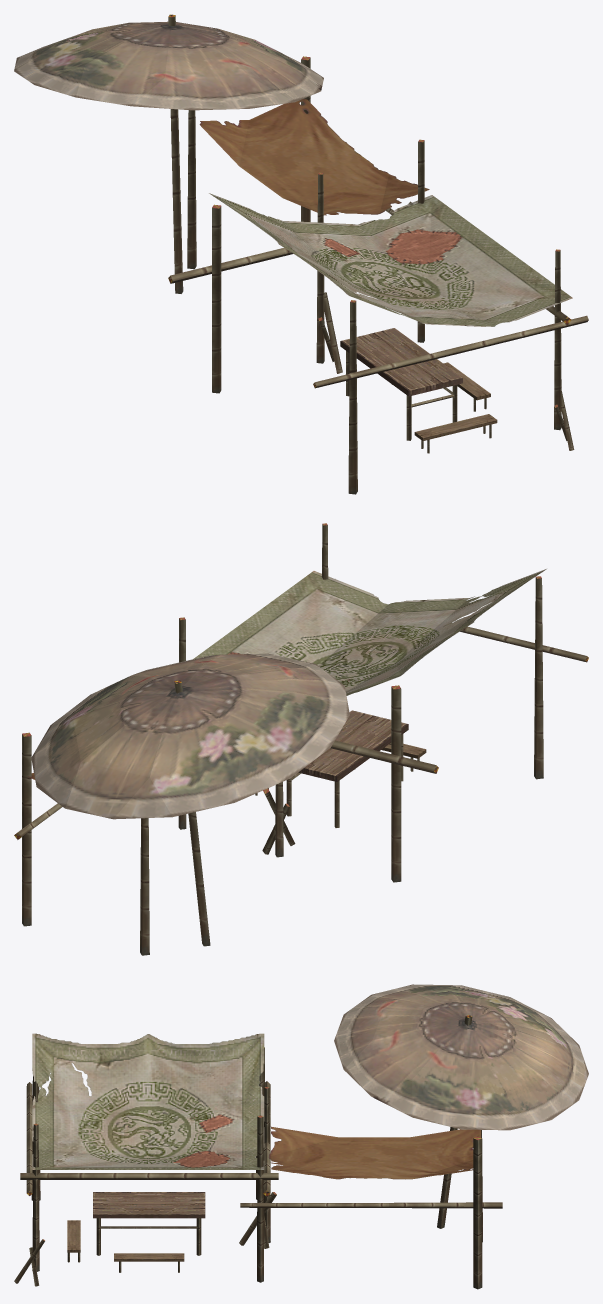
The picture shows the model from 3 angles, top to bottom: view 1: azimuth 30°, elevation 25°; view 2: azimuth 150°, elevation 25°; view 3: azimuth 270°, elevation 25°; orthographic projection. The views are drawn at different scales.
Parts seen in each view (by area): view 1: Object007; view 2: Object007; view 3: Object007.
Boxes of the visible parts, x1=… form: Object007: x1=14, y1=14, x2=588, y2=494; Object007: x1=14, y1=523, x2=588, y2=955; Object007: x1=14, y1=984, x2=588, y2=1289.
Bounding box in the file's own units: 124 × 108 × 258.
1 material, 1 textured.
